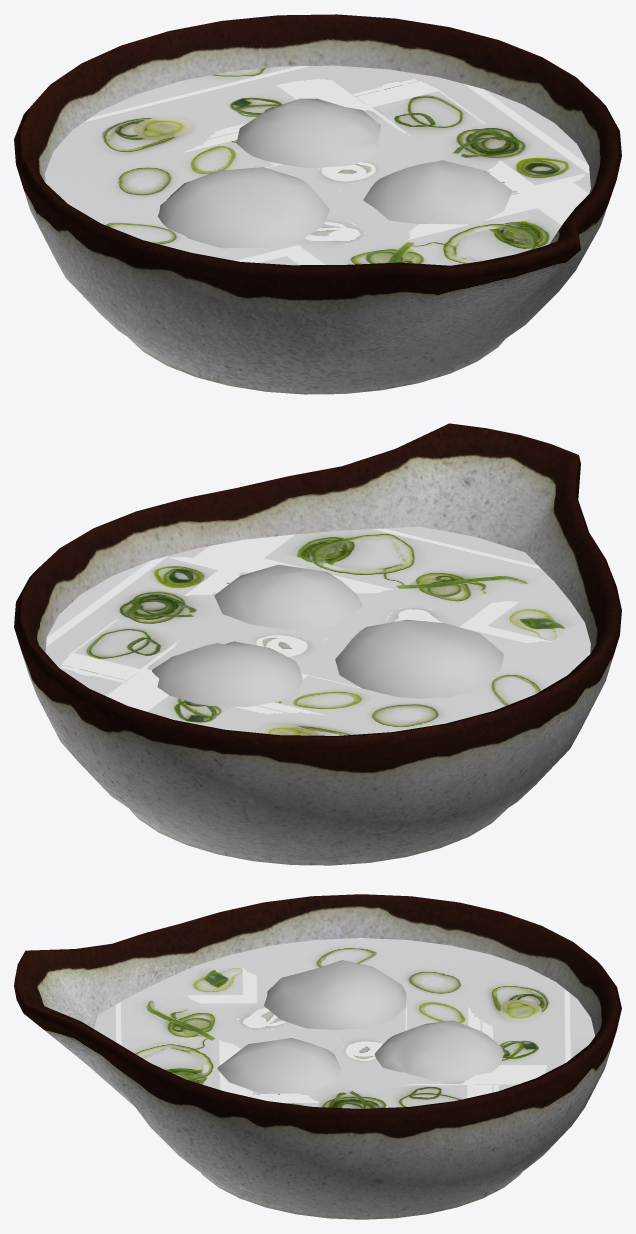
File: Akashiyaki_sara01.fbx
3 views of the same model, one above another, from view 1: azimuth 30°, elevation 25°; view 2: azimuth 150°, elevation 25°; view 3: azimuth 270°, elevation 25° (orthographic). The views are drawn at different scales.
Parts seen in each view (by area): view 1: Akasiyaki_sara01; view 2: Akasiyaki_sara01; view 3: Akasiyaki_sara01.
Boxes of the visible parts, x1,y1,x2,y2 form: Akasiyaki_sara01: (14, 14, 621, 394); Akasiyaki_sara01: (14, 423, 621, 865); Akasiyaki_sara01: (14, 894, 621, 1219).
Bounding box in the file's own units: 9.87 × 3.63 × 11.51.
